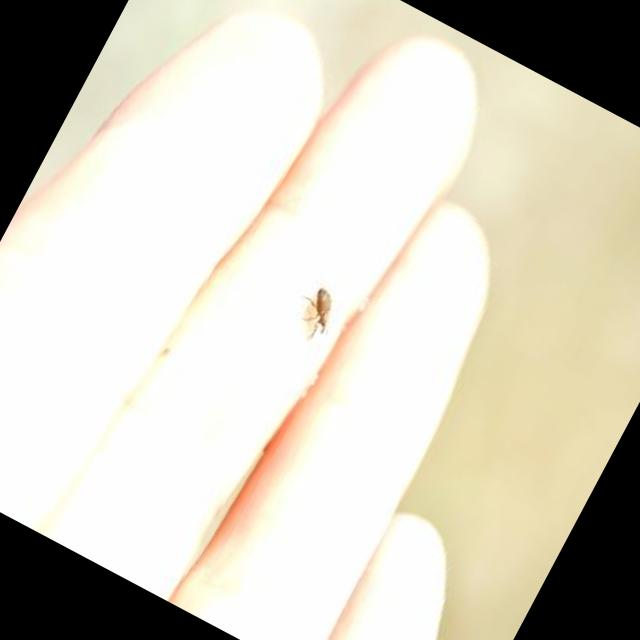rice-bug: (292, 277, 349, 343)
